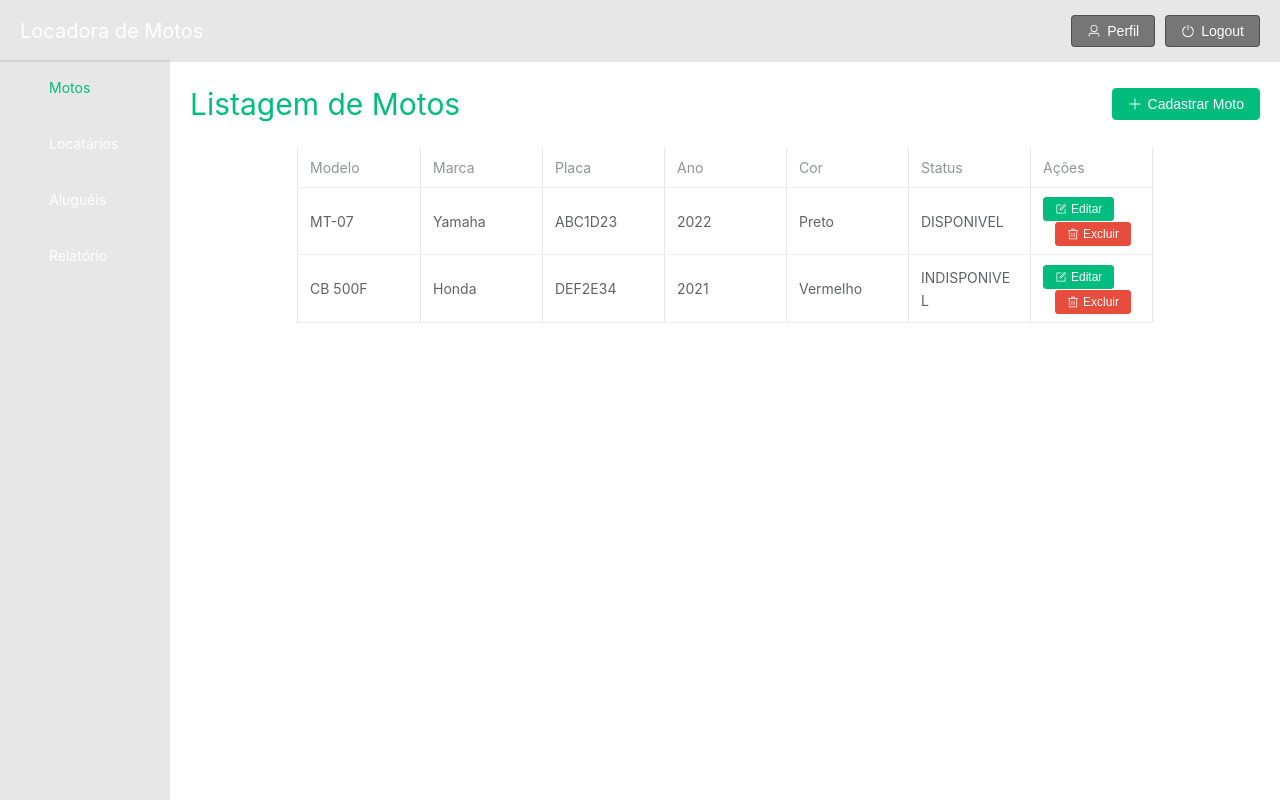
Test: Tela de Listagem de Motos › deve abrir o modal de cadastro ao clicar em Cadastrar Moto
The image size is (1280, 800).
Click the button "Cadastrar Moto" at (1187, 104), box [1112, 88, 1261, 120]
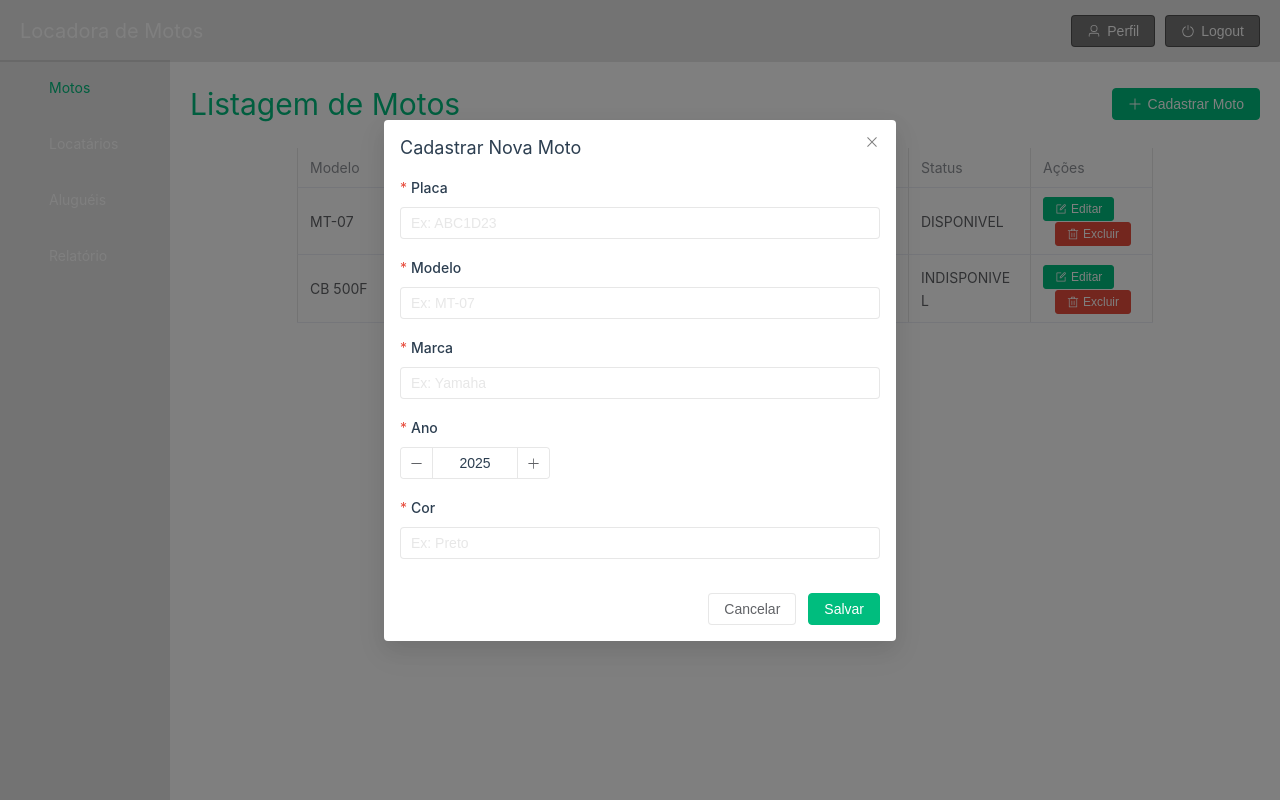
Check: the heading "Cadastrar Nova Moto" is shown, box [400, 137, 581, 158]
